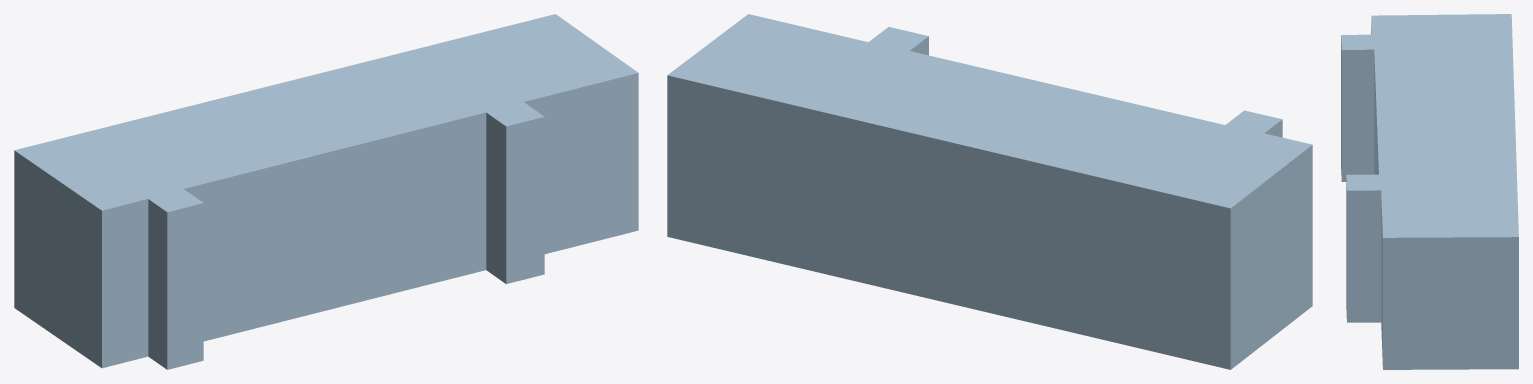
Rendered from osm_way_223859811.glb.
3 renders of one model, left to right at view 1: azimuth 30°, elevation 25°; view 2: azimuth 150°, elevation 25°; view 3: azimuth 270°, elevation 25°, orthographic. The views are drawn at different scales.
Parts seen in each view (by area): view 1: osm_way_223859811; view 2: osm_way_223859811; view 3: osm_way_223859811.
Part boxes in pixels (x1=…): osm_way_223859811: x1=14, y1=14, x2=638, y2=369; osm_way_223859811: x1=667, y1=14, x2=1312, y2=369; osm_way_223859811: x1=1341, y1=14, x2=1518, y2=369.
Size of the model in its own units: 80.7 by 22.2 by 27.1.
